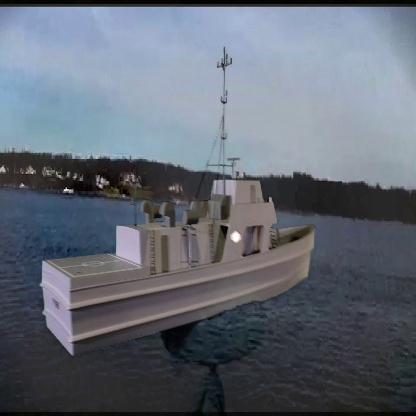YP689: (42, 33, 317, 363)
